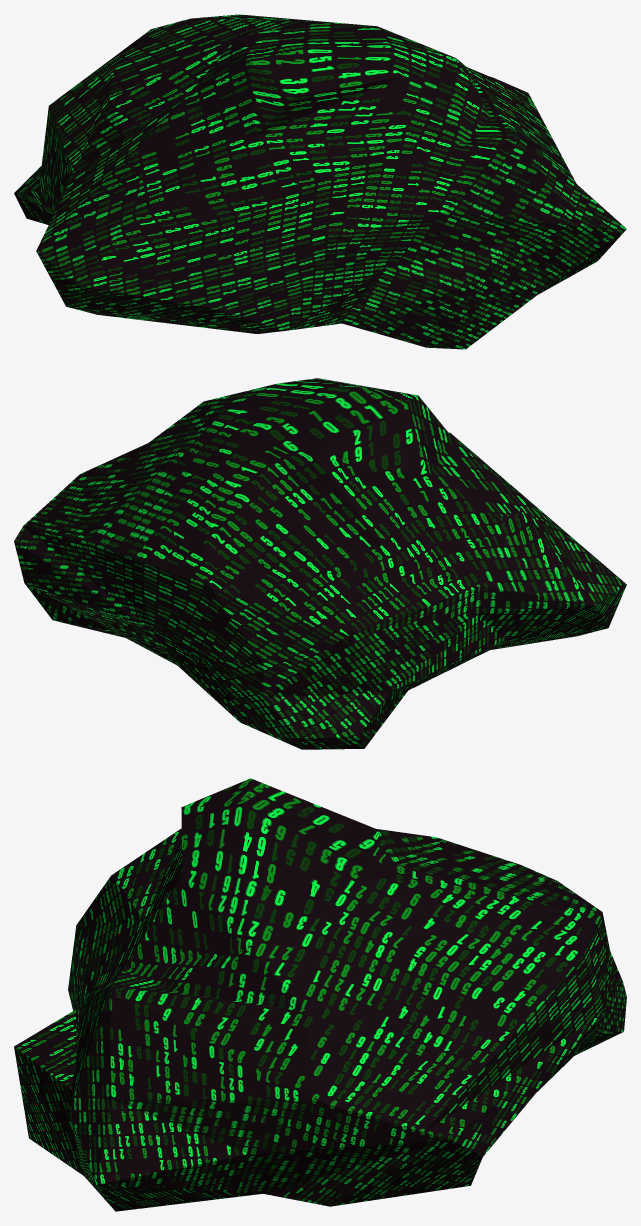
The model's file is Rock2_code.fbx.
3 renders of one model, top to bottom at view 1: azimuth 30°, elevation 25°; view 2: azimuth 150°, elevation 25°; view 3: azimuth 270°, elevation 25°, orthographic. The views are drawn at different scales.
Visible parts, largest first — view 1: Rock2_code; view 2: Rock2_code; view 3: Rock2_code.
Boxes of the visible parts, box(x1,y1,x2,y2) form: Rock2_code: box(14, 14, 626, 349); Rock2_code: box(14, 378, 626, 749); Rock2_code: box(14, 778, 626, 1211).
Size of the model in its own units: 2.15 by 1.01 by 1.87.
Materials: 1 (1 with a texture image).
